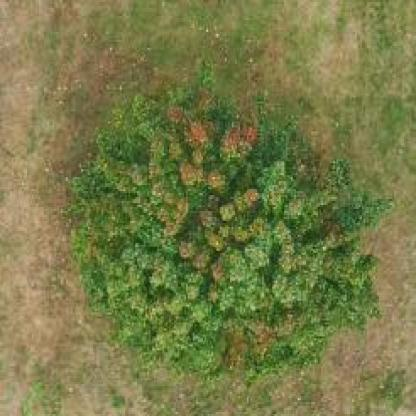Deciduous Tree: (61, 54, 391, 354)
